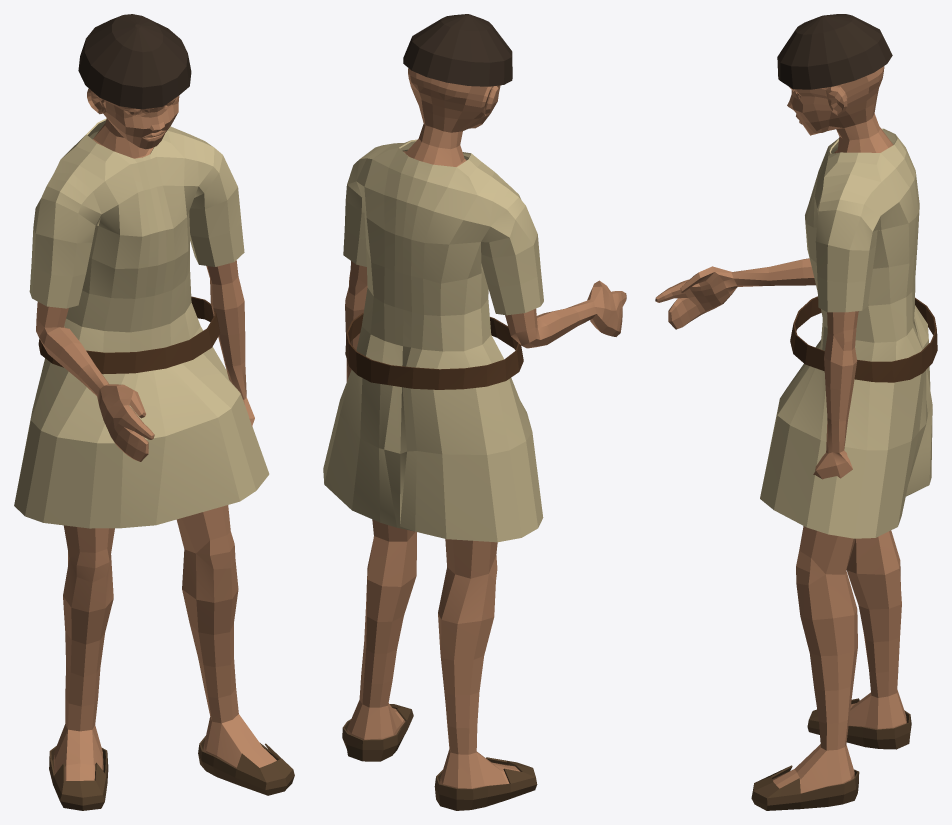
The model's file is citizen-idle-1.glb.
The picture shows the model from 3 angles, left to right: view 1: azimuth 30°, elevation 25°; view 2: azimuth 150°, elevation 25°; view 3: azimuth 270°, elevation 25°; orthographic projection. The views are drawn at different scales.
Visible parts, largest first — view 1: Ambient_RomanTunic, Ambient_CharacterBase, Ambient_HairCap, Ambient_RomanSandals, Ambient_LeatherBelt; view 2: Ambient_RomanTunic, Ambient_CharacterBase, Ambient_HairCap, Ambient_LeatherBelt, Ambient_RomanSandals; view 3: Ambient_RomanTunic, Ambient_CharacterBase, Ambient_HairCap, Ambient_RomanSandals, Ambient_LeatherBelt.
Boxes of the visible parts, bbox=[...] form: Ambient_RomanTunic: bbox=[14, 118, 269, 528]; Ambient_CharacterBase: bbox=[36, 88, 276, 780]; Ambient_HairCap: bbox=[78, 14, 191, 109]; Ambient_RomanSandals: bbox=[49, 736, 294, 810]; Ambient_LeatherBelt: bbox=[38, 296, 220, 374]; Ambient_RomanTunic: bbox=[323, 139, 543, 542]; Ambient_CharacterBase: bbox=[345, 68, 626, 788]; Ambient_HairCap: bbox=[403, 14, 512, 86]; Ambient_LeatherBelt: bbox=[345, 313, 523, 389]; Ambient_RomanSandals: bbox=[342, 704, 537, 810]; Ambient_RomanTunic: bbox=[760, 128, 932, 538]; Ambient_CharacterBase: bbox=[655, 66, 906, 793]; Ambient_HairCap: bbox=[777, 14, 892, 89]; Ambient_RomanSandals: bbox=[751, 698, 911, 810]; Ambient_LeatherBelt: bbox=[790, 296, 937, 382].
Size of the model in its own units: 0.5541 by 1.82 by 0.6313.
